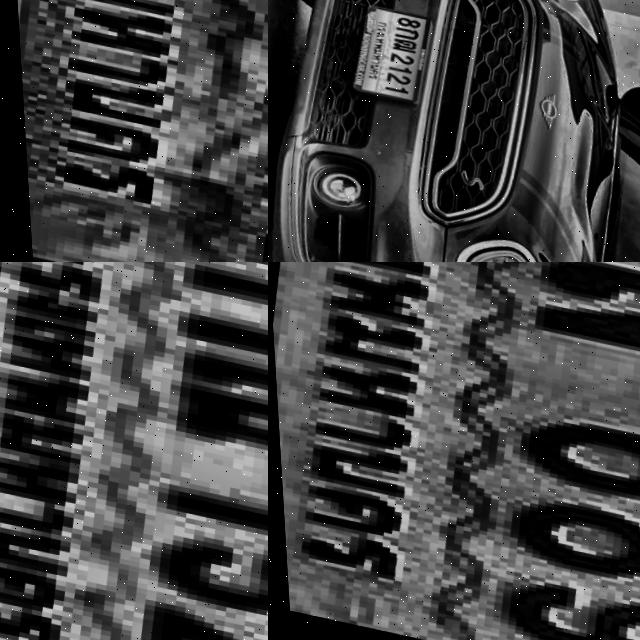license-plate: (268, 262, 640, 640), (0, 262, 268, 640), (0, 0, 268, 262), (342, 0, 444, 109)
